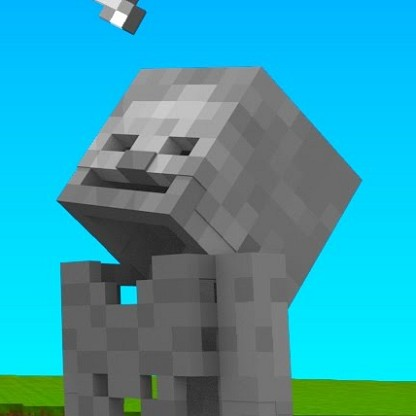skeleton: (36, 57, 374, 382)
